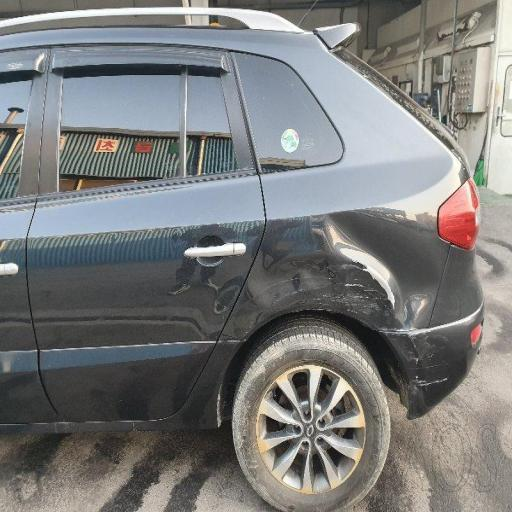dent: (320, 192, 478, 336), (169, 220, 251, 362)
scratch: (243, 171, 366, 337)
